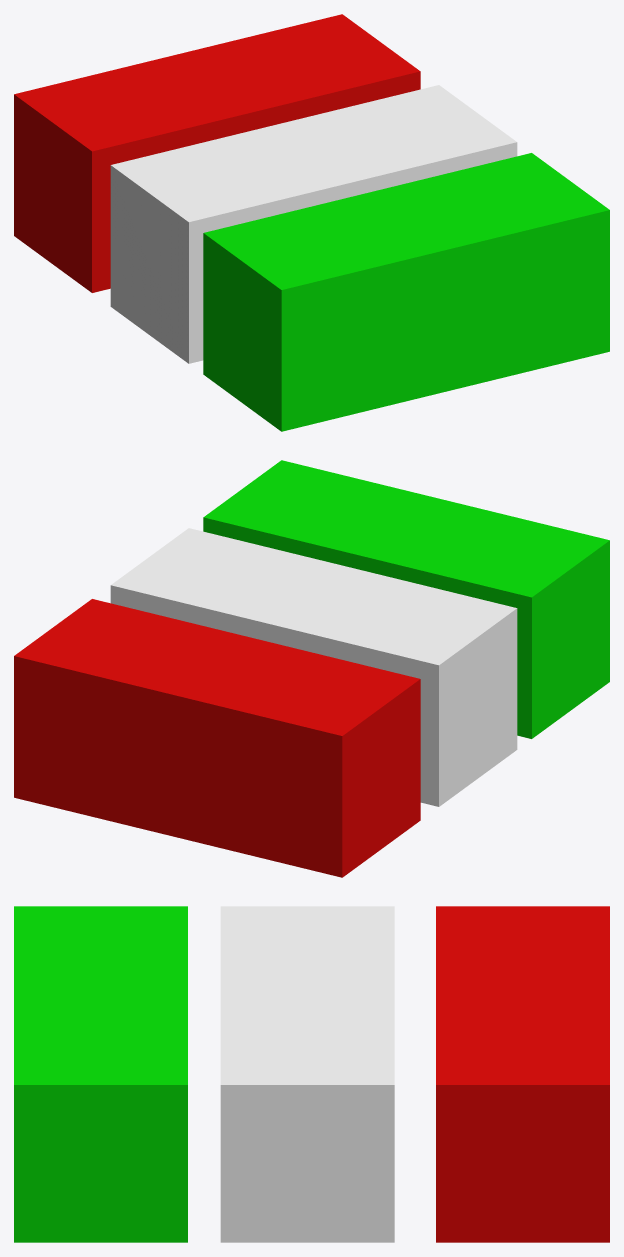
The model's file is italianFlag.gltf.
The picture shows the model from 3 angles, top to bottom: view 1: azimuth 30°, elevation 25°; view 2: azimuth 150°, elevation 25°; view 3: azimuth 270°, elevation 25°; orthographic projection. The views are drawn at different scales.
Visible parts, largest first — view 1: Cube.002, Cube, Cube.001; view 2: Cube, Cube.001, Cube.002; view 3: Cube.001, Cube, Cube.002.
Part boxes in pixels (<box>): Cube.002: <box>203,153,609,431</box>; Cube: <box>14,14,420,292</box>; Cube.001: <box>110,85,517,363</box>; Cube: <box>14,599,420,877</box>; Cube.001: <box>110,528,517,806</box>; Cube.002: <box>203,460,609,738</box>; Cube.001: <box>220,906,394,1242</box>; Cube: <box>436,906,609,1242</box>; Cube.002: <box>14,906,187,1242</box>.
Size of the model in its own units: 4.85 by 2 by 6.85.
